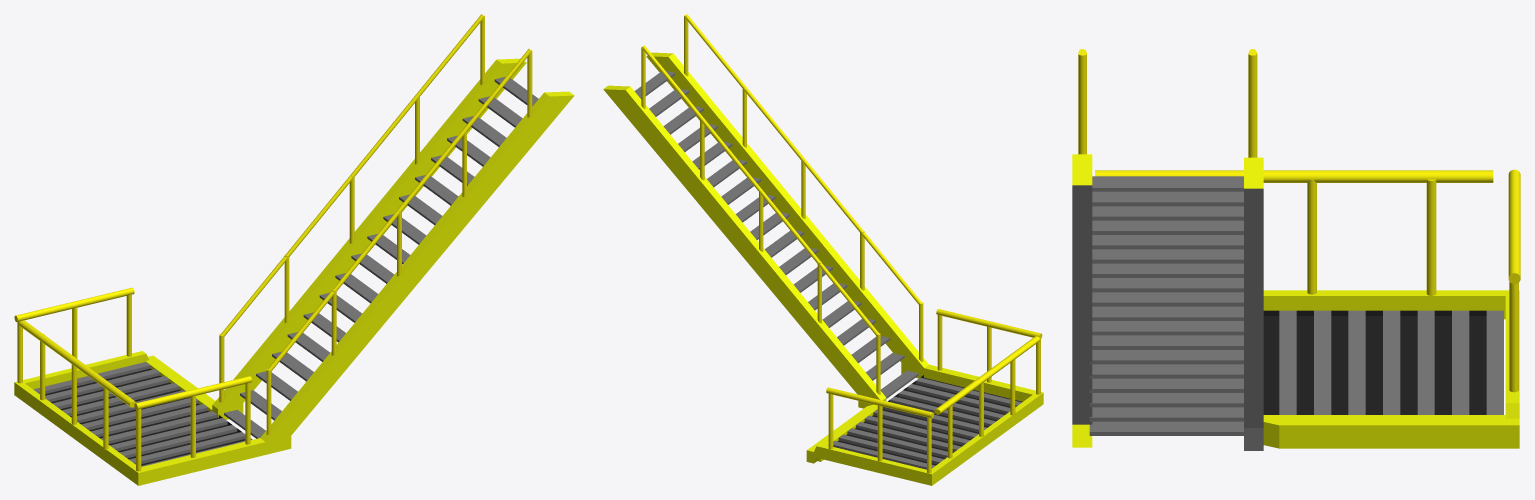
The model's file is Saircase_WITH_Connector_01.fbx.
3 views of the same model, side by side, from view 1: azimuth 30°, elevation 25°; view 2: azimuth 150°, elevation 25°; view 3: azimuth 270°, elevation 25° (orthographic). The views are drawn at different scales.
Parts seen in each view (by area): view 1: Staircase_Connection_01; view 2: Staircase_Connection_01; view 3: Staircase_Connection_01.
Boxes of the visible parts, <box> form: Staircase_Connection_01: <box>14,14,574,485</box>; Staircase_Connection_01: <box>603,14,1043,485</box>; Staircase_Connection_01: <box>1072,49,1520,450</box>.
Size of the model in its own units: 1440 by 1086 by 708.
